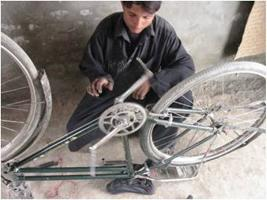person: (65, 2, 197, 152)
